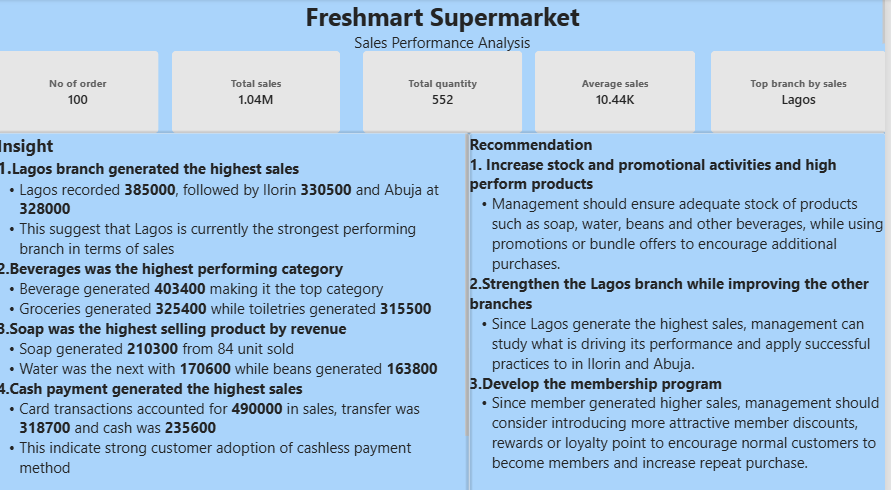

This screenshot's page, from the dashboard's own definition file:
{"tool":"powerbi","page":{"name":"Insight and Recommendation ","canvas":[1920,1080],"ordinal":1},"visuals":[{"type":"textbox","box":[9.8,0,1910.2,113.1],"z":0},{"type":"cardVisual","fields":{"Data":["SupermarketSales.No of order"]},"box":[0,113.1,349.1,177],"z":1000},{"type":"cardVisual","fields":{"Data":["SupermarketSales.Total sales"]},"box":[378.6,113.1,363.8,177],"z":2000},{"type":"cardVisual","fields":{"Data":["SupermarketSales.Total quantity"]},"box":[791.6,113.1,344.2,177],"z":3000},{"type":"cardVisual","fields":{"Data":["SupermarketSales.Average sales"]},"box":[1162.8,113.1,346.6,177],"z":4000},{"type":"cardVisual","fields":{"Data":["SupermarketSales.Top branch by sales"]},"box":[1541.4,113.1,378.6,177],"z":5000},{"type":"textbox","box":[0,290.1,1020.2,789.1],"z":6000},{"type":"textbox","box":[1020.2,290.1,899.8,789.1],"z":7000}]}

Visuals, with their boxes in screenshot pixels (x1, y1, x2, y2), scaled from the page's 1920x1080 canvas onto the 891x490 screenshot:
textbox: pyautogui.locateOnScreen(5, 0, 890, 51)
cardVisual - SupermarketSales.No of order: pyautogui.locateOnScreen(0, 51, 162, 132)
cardVisual - SupermarketSales.Total sales: pyautogui.locateOnScreen(176, 51, 345, 132)
cardVisual - SupermarketSales.Total quantity: pyautogui.locateOnScreen(367, 51, 527, 132)
cardVisual - SupermarketSales.Average sales: pyautogui.locateOnScreen(540, 51, 700, 132)
cardVisual - SupermarketSales.Top branch by sales: pyautogui.locateOnScreen(715, 51, 890, 132)
textbox: pyautogui.locateOnScreen(0, 132, 473, 489)
textbox: pyautogui.locateOnScreen(473, 132, 890, 489)
